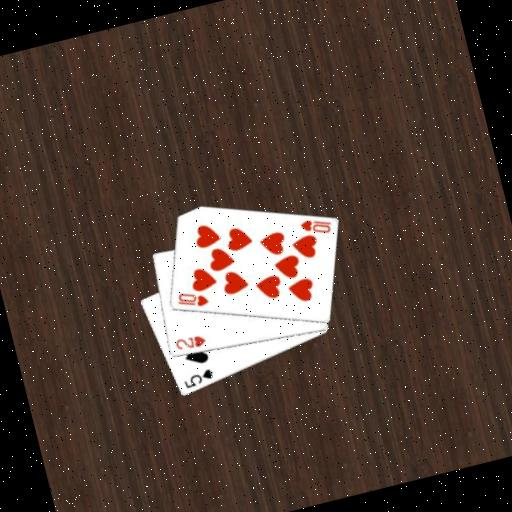10H: (172, 284, 211, 314), (296, 212, 335, 242)
2H: (171, 330, 208, 355)
5S: (179, 366, 217, 392)
